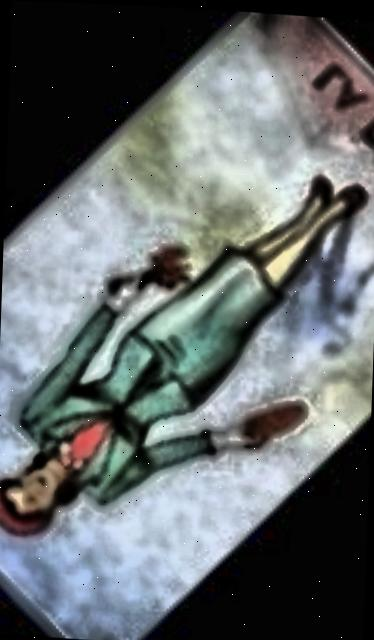La Dama: (0, 12, 374, 640)
